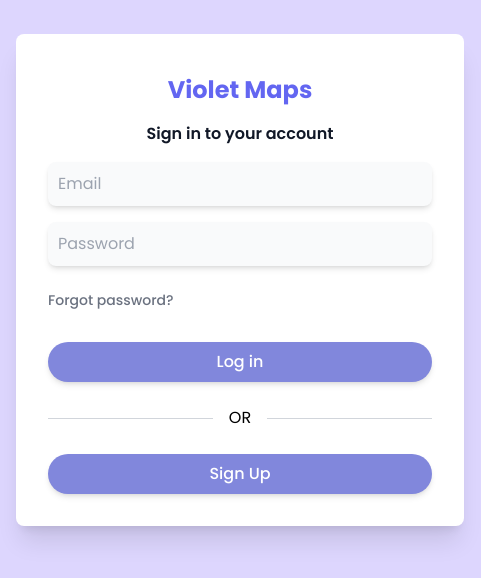
Test: sign in tests › non-existing email as input › error message from non-existing email input
Type "InvalidEmail@dne.com" into the field with id "email" at (240, 184), box [48,162,432,206]
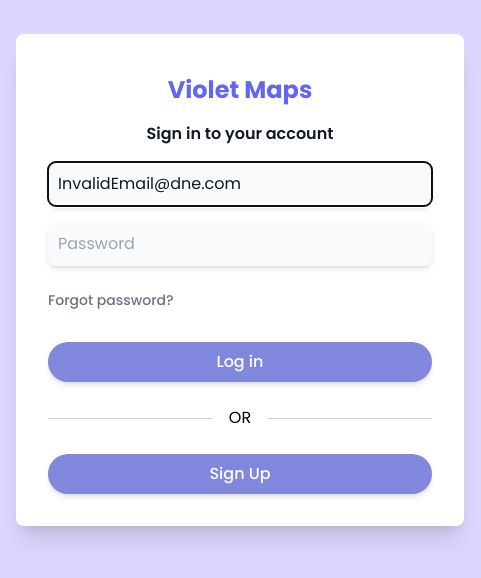
Type "Invalid Password" into the password field with placeholder "Password" at (240, 244), box [48,222,432,266]
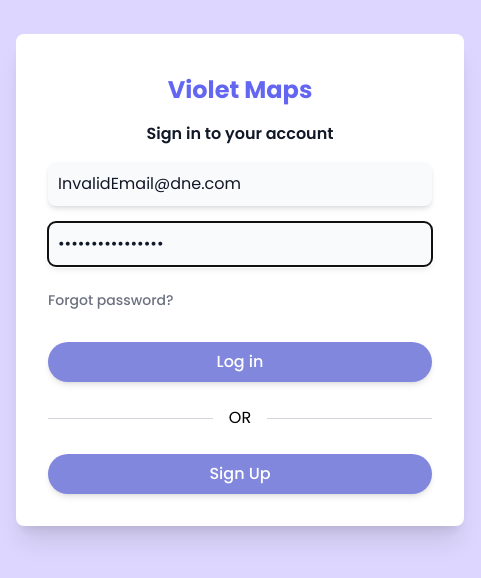
Click the button "Log in" at (240, 362), box [48,342,432,382]
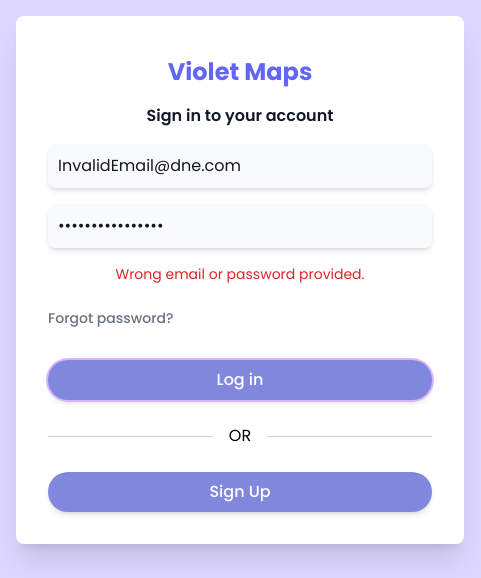
Now the text "Wrong email or password provided." is shown, box [116,264,364,284]
